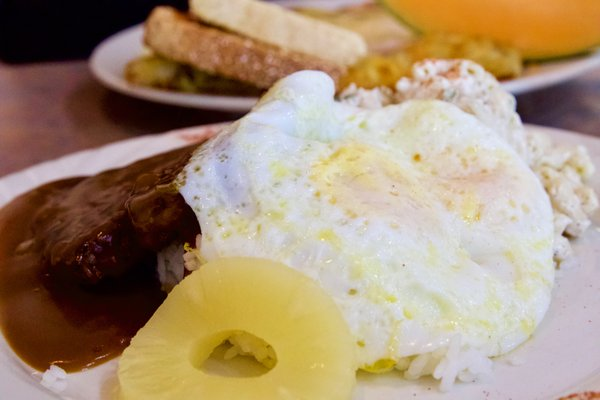soup: (125, 1, 374, 96)
